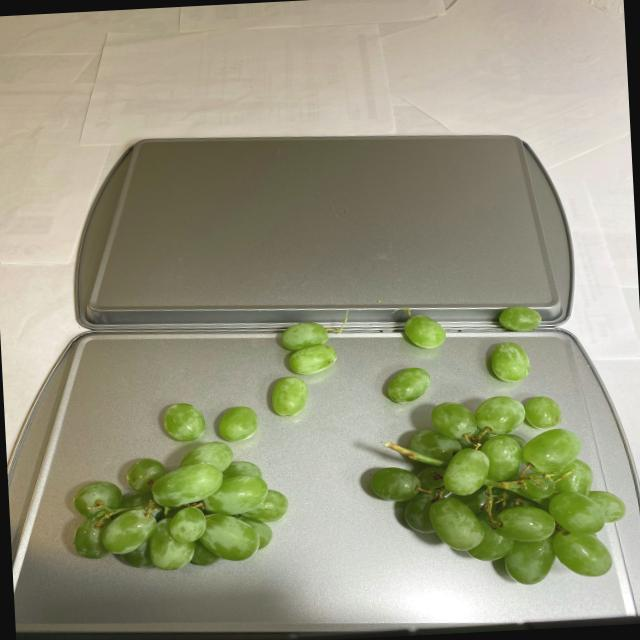grapes: (50, 302, 629, 578)
